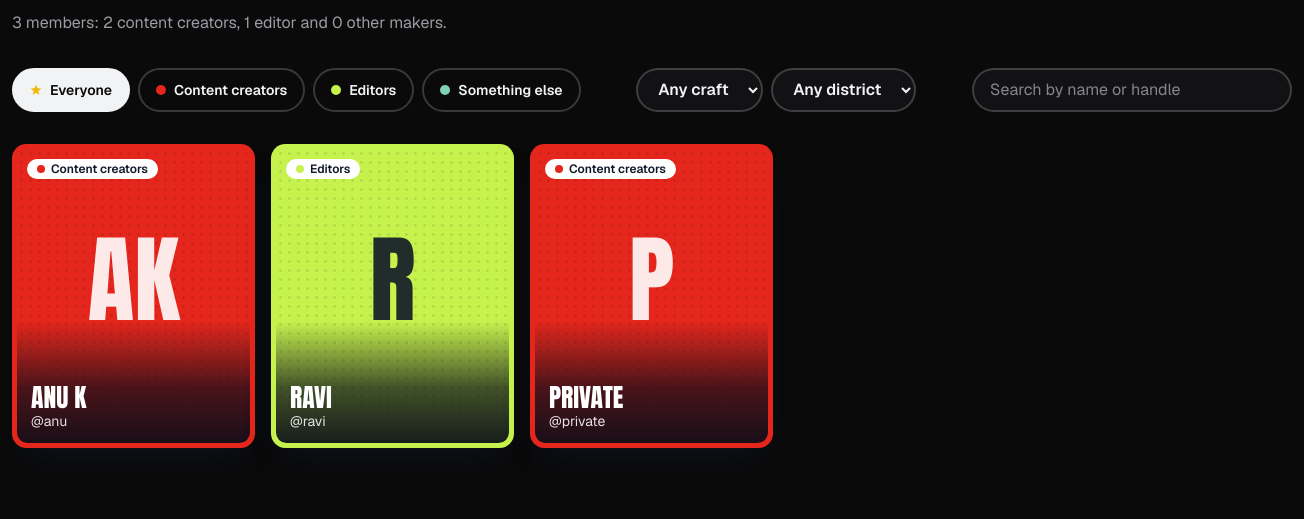
Test case: Directory — the member wall, honest in every state › craft and district filters list only what public profiles show, and narrow to them
Select "Thrissur" in the 2nd dropdown named "District" at (844, 90), box 771,68 -> 916,112
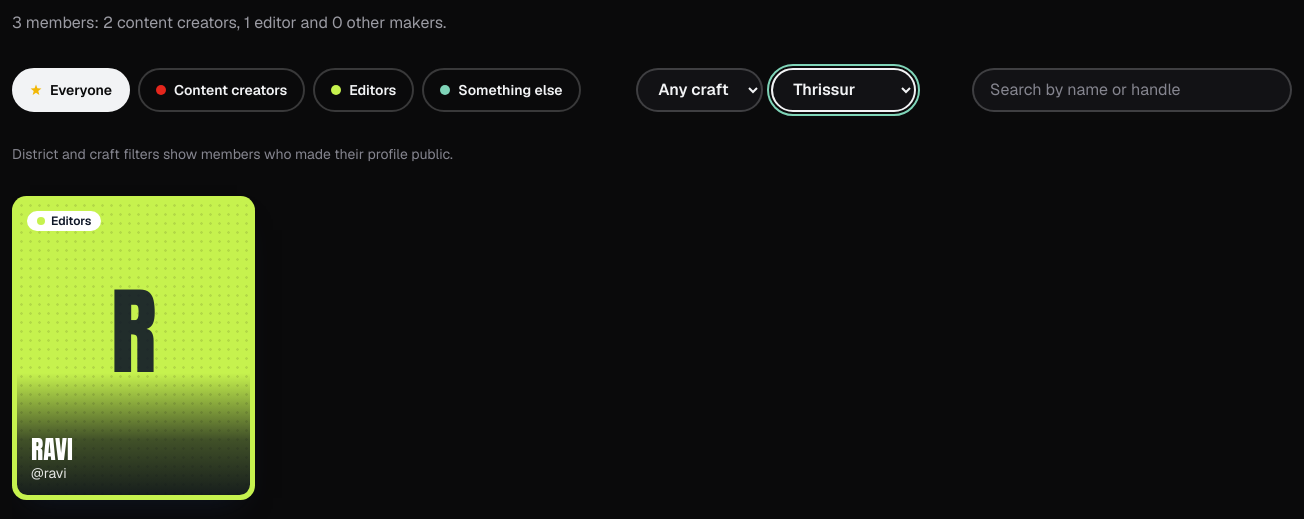
Expected: the text "Ravi" is shown, 31,430 -> 73,468
Now the number of links is 1, box 12,196 -> 255,500
Select "Any district" in the 2nd dropdown named "District" at (844, 90), box 771,68 -> 916,112
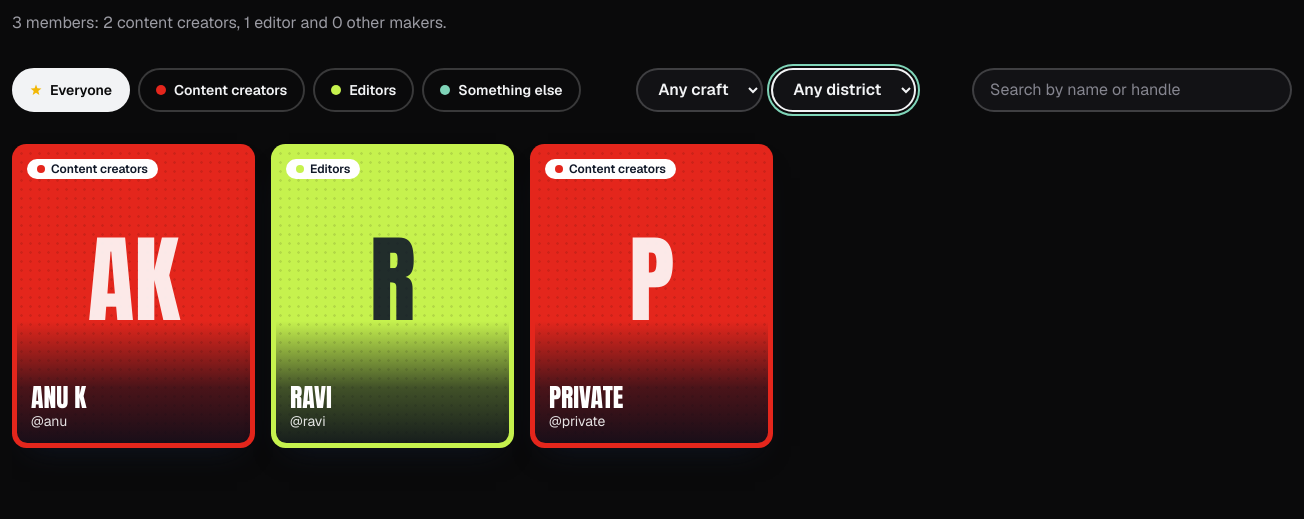
Select "reels" in the 1st dropdown named "Craft" at (700, 90), box 636,68 -> 763,112
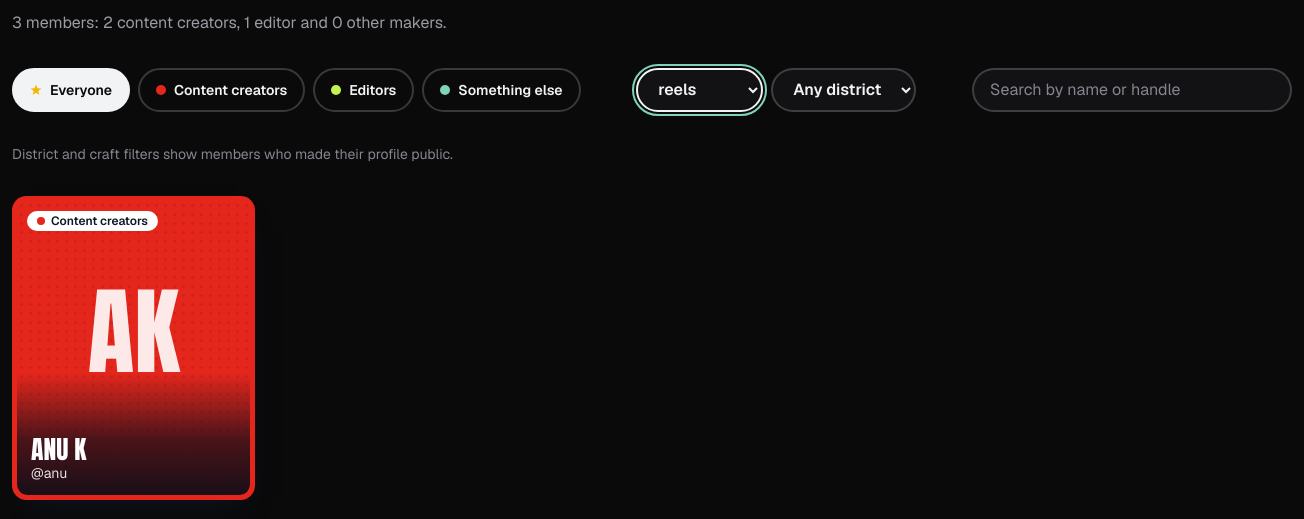
Now the text "Anu K" is shown, box 31,430 -> 86,468
Now the number of links is 1, box 12,196 -> 255,500
